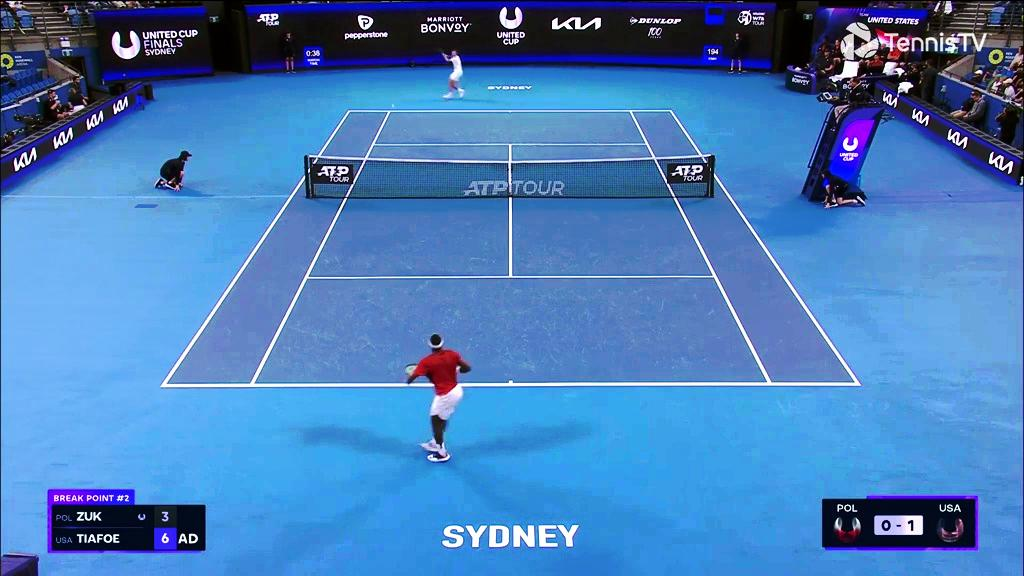tennis-court: (159, 110, 862, 387)
